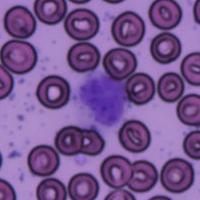M: (74, 72, 129, 127)
